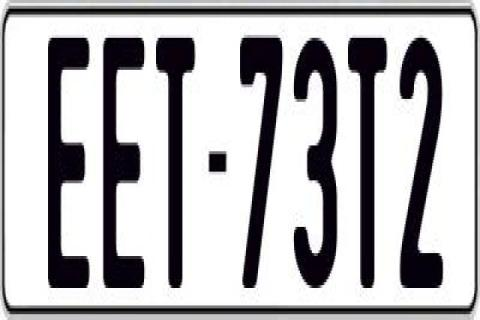0: (293, 35, 339, 303), (240, 38, 284, 302), (396, 35, 440, 285)
E: (46, 32, 92, 288), (102, 38, 146, 291)
T: (344, 35, 388, 299), (154, 32, 196, 296)
